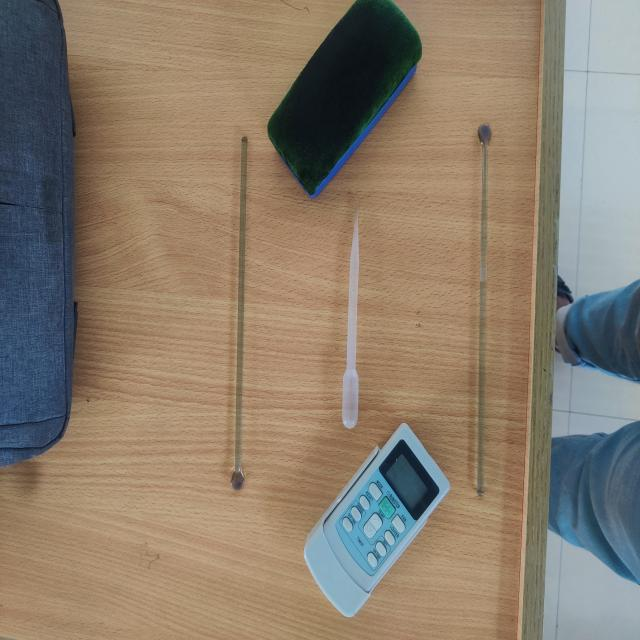Glass_Rod: (181, 96, 279, 533), (445, 88, 521, 517)
Pipette: (323, 158, 388, 449)
